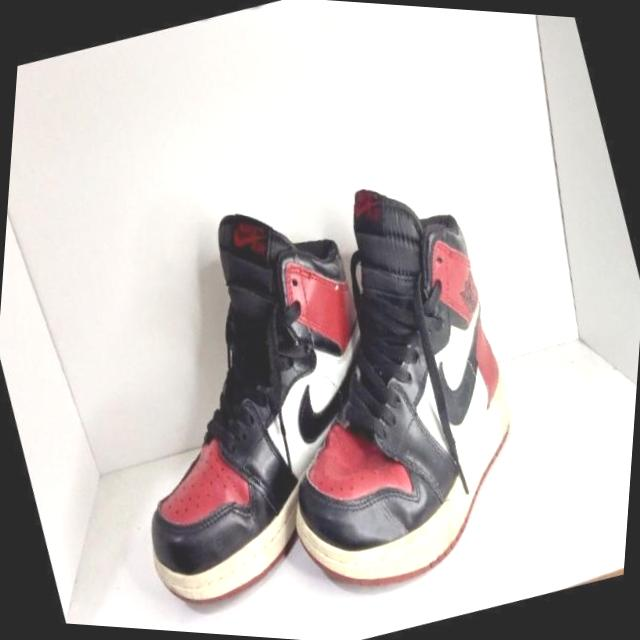nike_fake_jordan: (48, 168, 445, 638), (192, 150, 570, 620)
